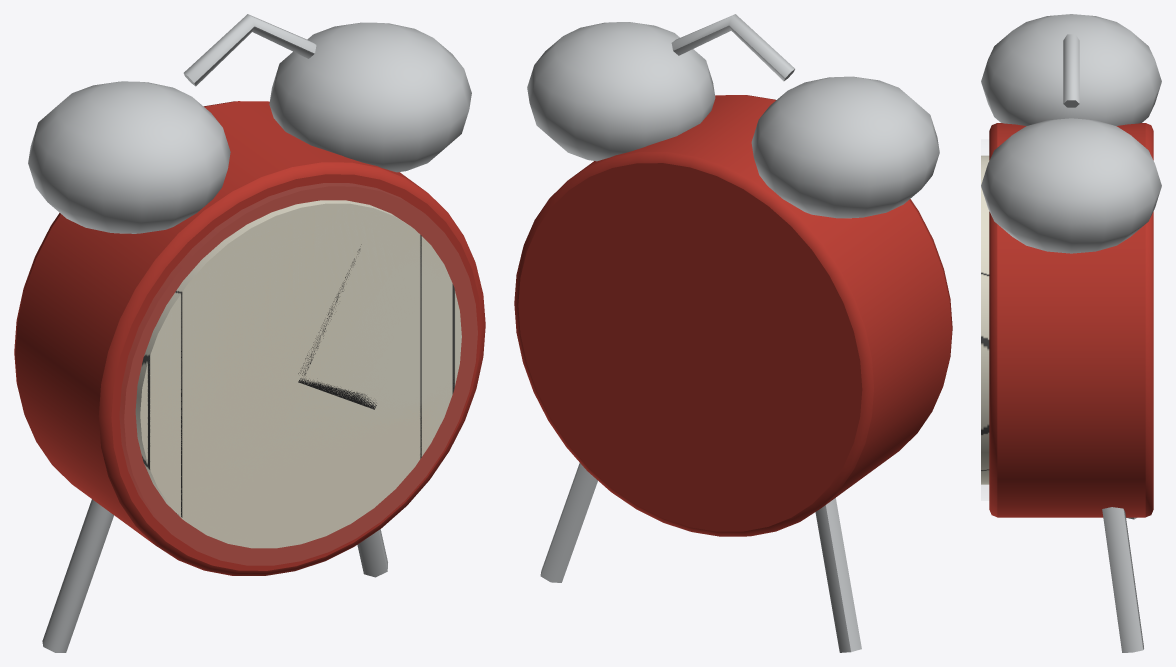
File: DongHoDeBan_BaoThuc.glb
The picture shows the model from 3 angles, left to right: view 1: azimuth 30°, elevation 25°; view 2: azimuth 150°, elevation 25°; view 3: azimuth 270°, elevation 25°; orthographic projection. The views are drawn at different scales.
Visible parts, largest first — view 1: DongHoDeBan_BaoThuc; view 2: DongHoDeBan_BaoThuc; view 3: DongHoDeBan_BaoThuc.
Part boxes in pixels (x1=…): DongHoDeBan_BaoThuc: x1=14, y1=14, x2=485, y2=652; DongHoDeBan_BaoThuc: x1=514, y1=14, x2=952, y2=652; DongHoDeBan_BaoThuc: x1=981, y1=14, x2=1161, y2=652.
Bounding box in the file's own units: 0.104 × 0.1475 × 0.044.
Materials: 5 (1 with a texture image).
